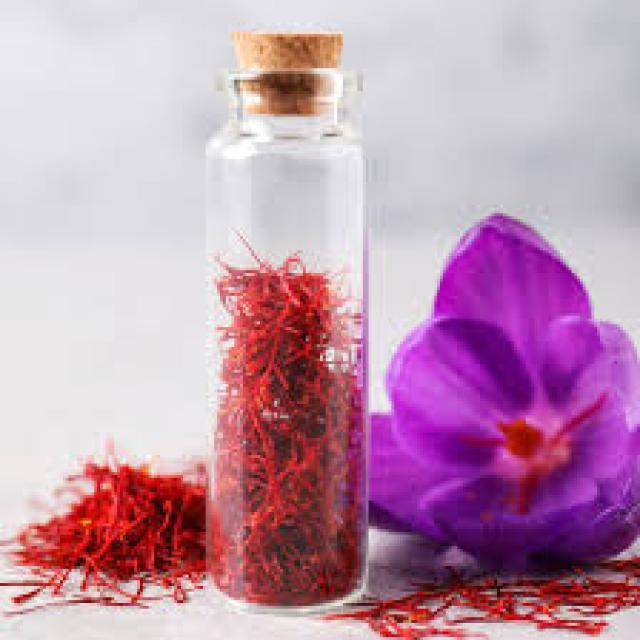Flower: (361, 196, 640, 576)
stigma: (543, 388, 611, 445)
